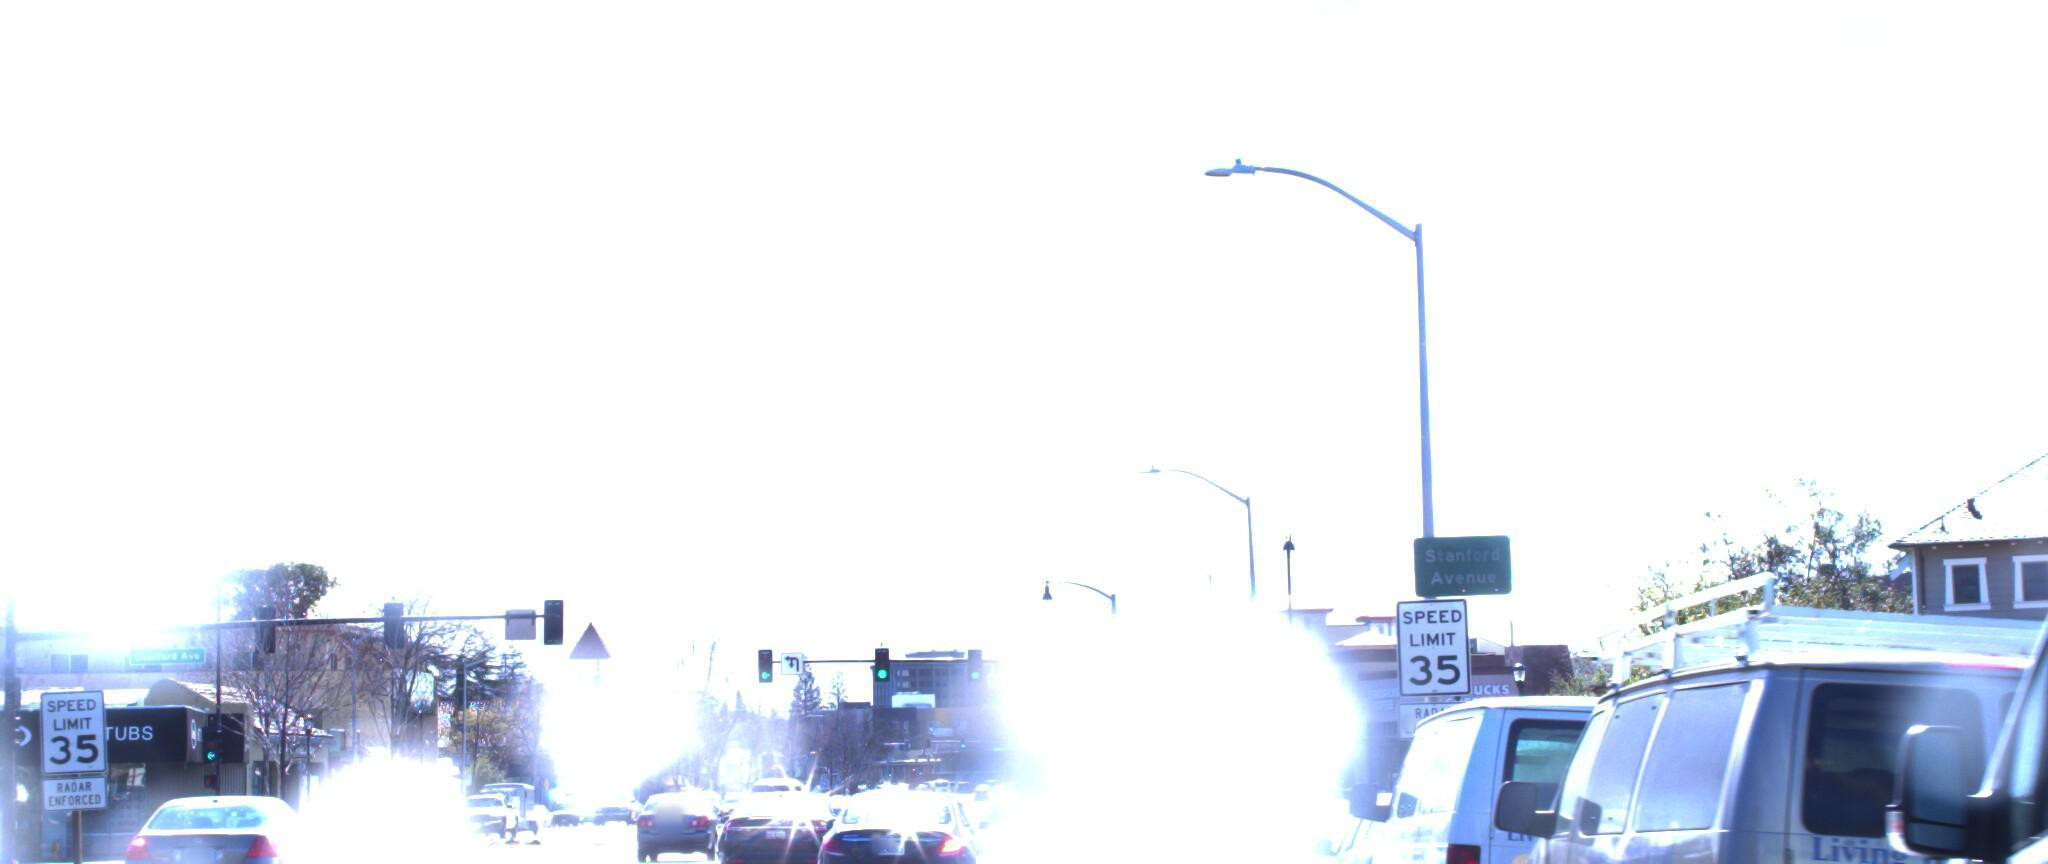car: (1767, 0, 2048, 864), (1469, 553, 2048, 864), (1330, 677, 1829, 864), (1290, 775, 1591, 864), (1162, 753, 1347, 864), (1258, 788, 1522, 864), (108, 784, 334, 864), (1220, 780, 1430, 864), (799, 779, 990, 864), (701, 774, 844, 864), (609, 773, 726, 850)
other_vehicle: (1106, 688, 1275, 864)
truck: (1081, 676, 1215, 854)
